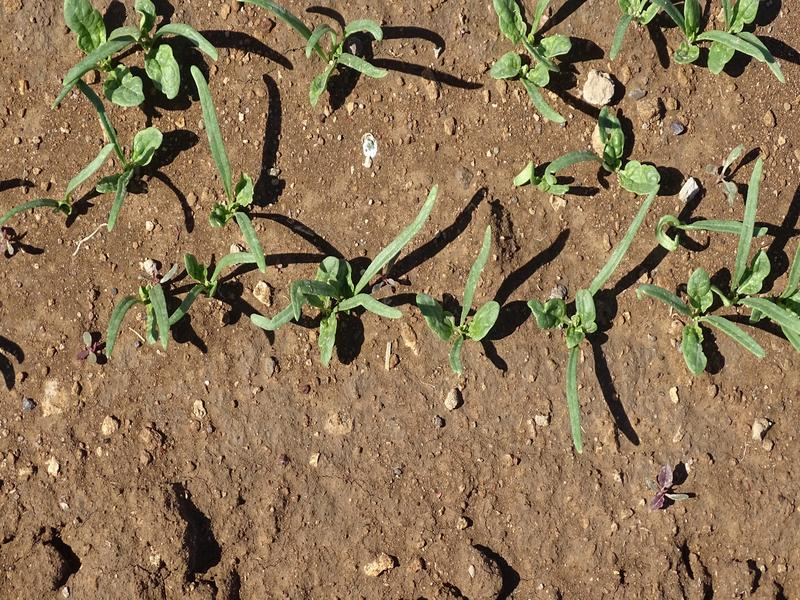Espinaca: (47, 4, 272, 358), (280, 196, 501, 391), (513, 193, 650, 456), (655, 179, 800, 361), (482, 3, 573, 120), (286, 5, 392, 102), (609, 4, 773, 65), (542, 121, 661, 188)
